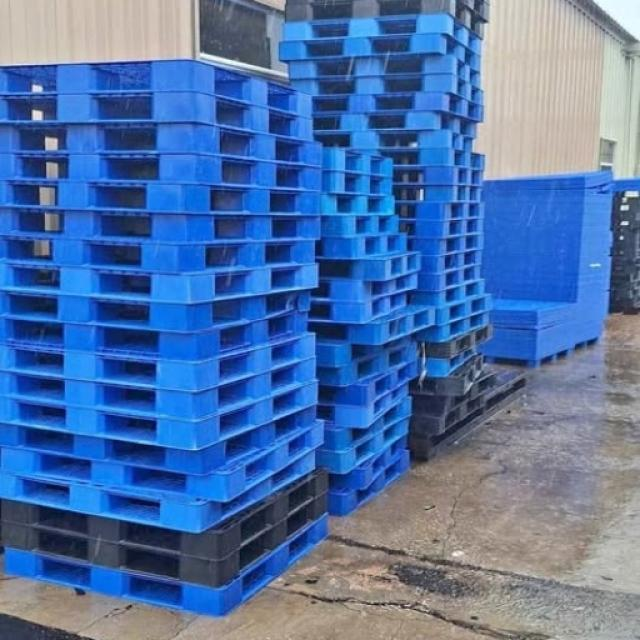non-igps: (0, 510, 344, 623), (0, 490, 335, 598), (0, 462, 335, 569), (0, 411, 338, 509), (0, 440, 323, 540), (0, 370, 327, 459), (0, 348, 330, 432), (0, 401, 328, 485), (0, 327, 335, 402), (0, 50, 320, 124), (0, 304, 315, 374), (0, 81, 319, 150), (0, 114, 333, 180), (0, 142, 330, 202), (0, 172, 330, 228), (0, 200, 329, 254), (0, 260, 326, 314), (0, 232, 322, 285), (404, 363, 534, 468), (276, 6, 486, 62), (274, 28, 484, 77), (284, 46, 484, 94), (279, 0, 488, 45), (283, 69, 489, 110), (304, 86, 488, 126), (310, 390, 420, 456), (302, 104, 481, 144), (304, 299, 440, 349), (323, 446, 414, 520), (312, 413, 413, 478), (304, 120, 476, 158), (313, 357, 422, 412), (312, 338, 422, 390), (323, 432, 412, 496), (340, 139, 488, 175), (313, 381, 413, 432), (310, 326, 416, 372), (304, 268, 421, 308), (302, 287, 411, 328), (311, 247, 425, 286), (414, 318, 502, 363), (406, 302, 494, 346), (400, 338, 482, 383), (404, 274, 491, 316), (312, 229, 411, 265), (403, 258, 486, 300), (391, 195, 489, 227), (316, 144, 396, 183), (430, 288, 498, 332), (314, 187, 398, 222), (318, 165, 396, 202), (414, 242, 487, 281), (388, 161, 486, 190), (388, 181, 484, 209), (318, 210, 402, 242), (393, 215, 488, 242), (403, 230, 487, 260)
